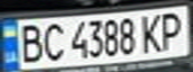3: (84, 17, 106, 59)
4: (66, 18, 90, 60)
8: (103, 16, 124, 57), (118, 15, 139, 56)
B: (15, 20, 45, 64)
C: (36, 20, 69, 62)
K: (136, 11, 166, 54)
P: (154, 8, 190, 52)
